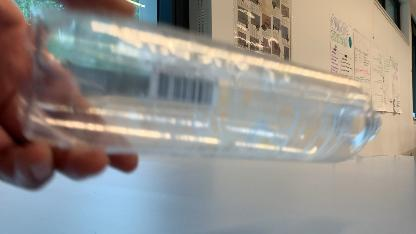Plastic Bottle: (17, 9, 381, 163)
